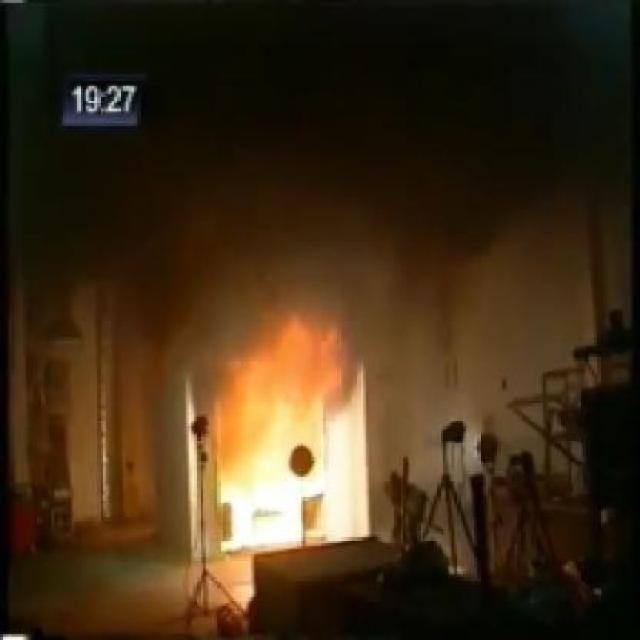fire: (163, 282, 353, 527)
smoke: (5, 2, 638, 348)
